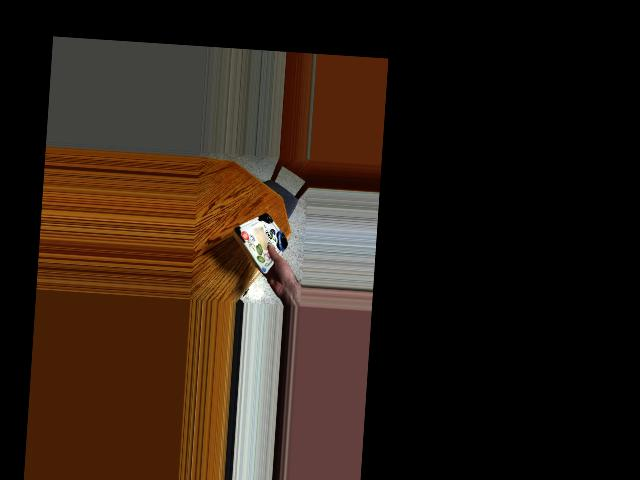cheese: (235, 211, 284, 266)
